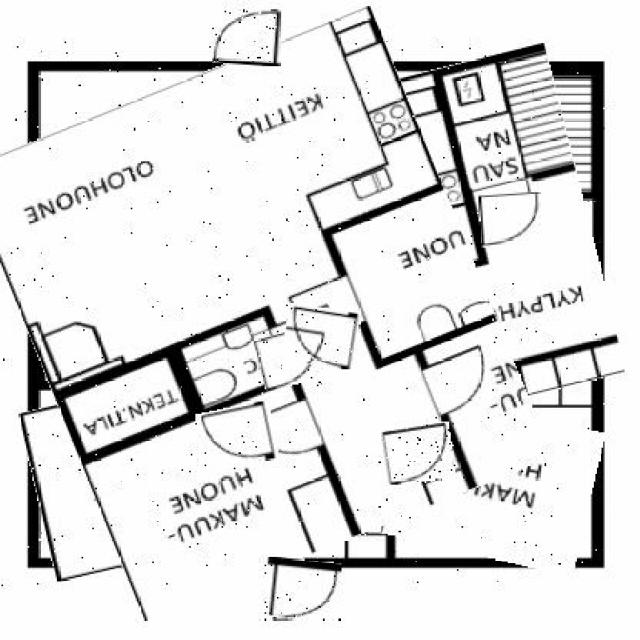door: (198, 405, 276, 469), (264, 558, 342, 620), (284, 306, 358, 366), (383, 423, 454, 483), (257, 329, 328, 388), (212, 8, 283, 66), (480, 194, 542, 246)
zone: (0, 38, 512, 589), (328, 55, 606, 417), (28, 375, 269, 571), (388, 399, 597, 566), (41, 309, 157, 389), (169, 319, 262, 383)
